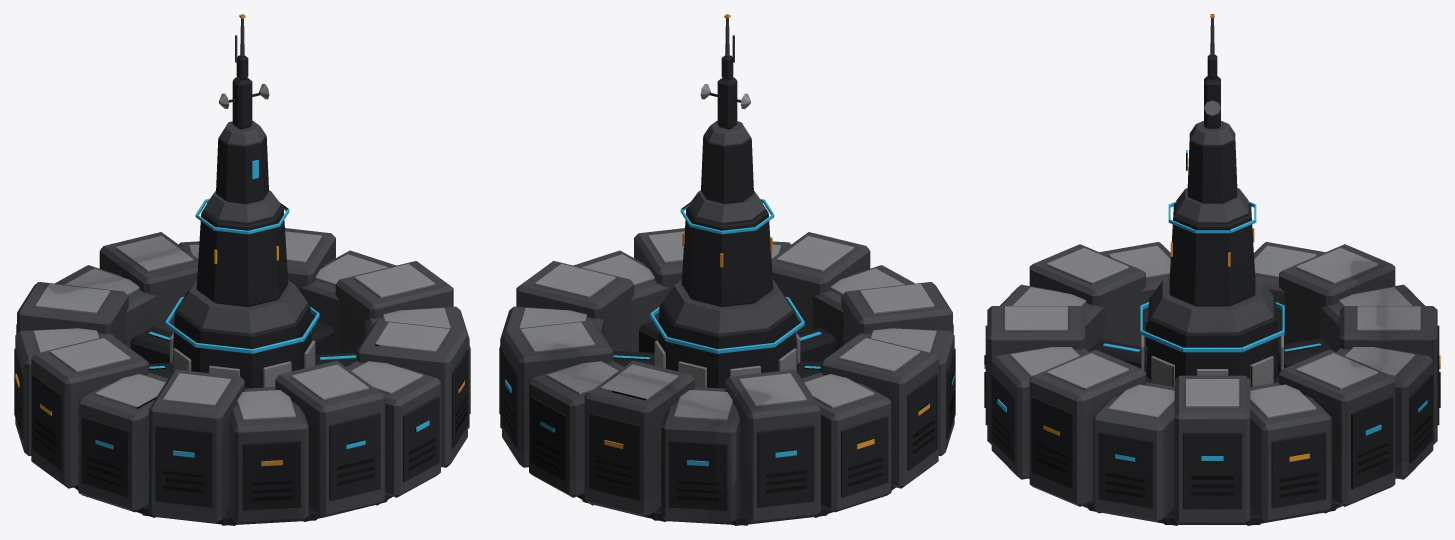
Rendered from SM_Core.fbx.
3 views of the same model, side by side, from view 1: azimuth 30°, elevation 25°; view 2: azimuth 150°, elevation 25°; view 3: azimuth 270°, elevation 25° (orthographic).
Visible parts, largest first — view 1: SMN_Core; view 2: SMN_Core; view 3: SMN_Core.
Boxes of the visible parts, x1=… form: SMN_Core: x1=14, y1=14, x2=470, y2=525; SMN_Core: x1=499, y1=14, x2=955, y2=525; SMN_Core: x1=984, y1=14, x2=1440, y2=525.
Bounding box in the file's own units: 1.86 × 1.91 × 1.86.
